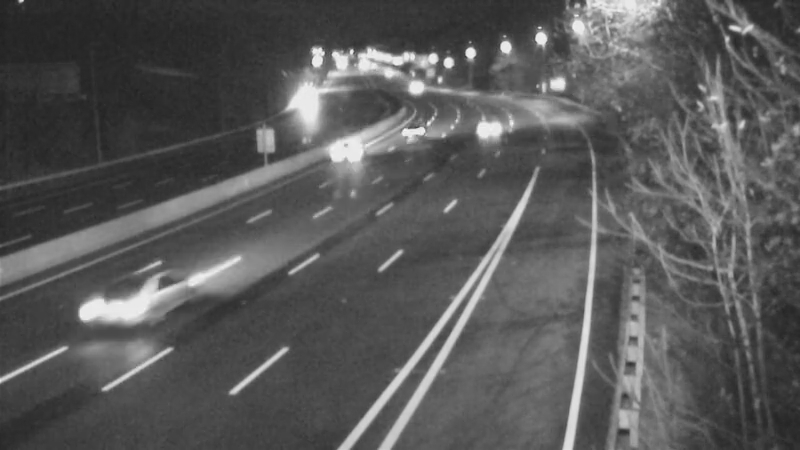vehicle: (80, 259, 160, 339), (389, 56, 439, 106), (463, 102, 513, 152), (386, 107, 436, 157), (325, 125, 375, 175)
